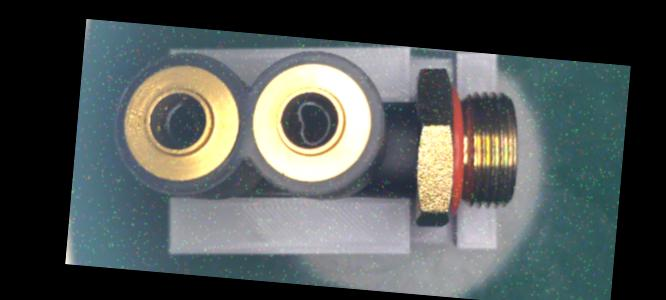joint line: (384, 137, 417, 149)
off-centered: (287, 95, 341, 154), (156, 94, 209, 150)
